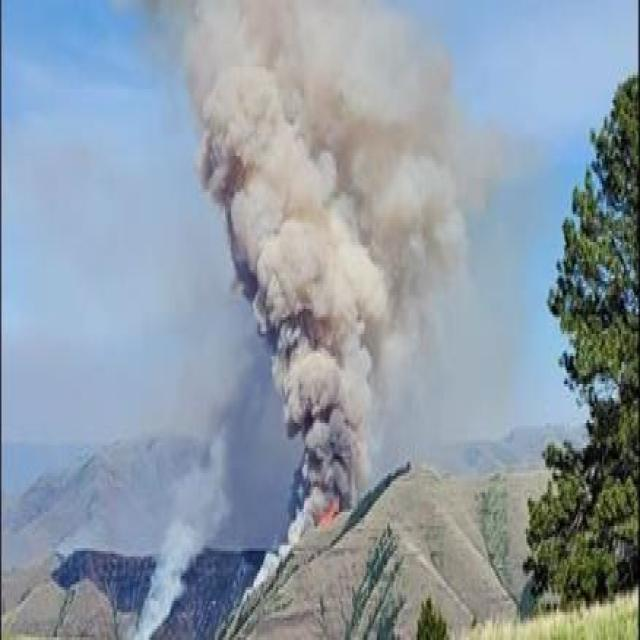Smoke: (143, 0, 545, 538)
